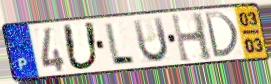4: (39, 25, 66, 73)
D: (202, 10, 240, 59)
H: (169, 11, 215, 65)
L: (103, 21, 137, 65)
U: (61, 21, 102, 72), (130, 15, 170, 65)
